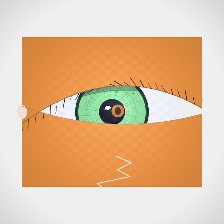foreign_body_visible: (98, 95, 138, 127)
